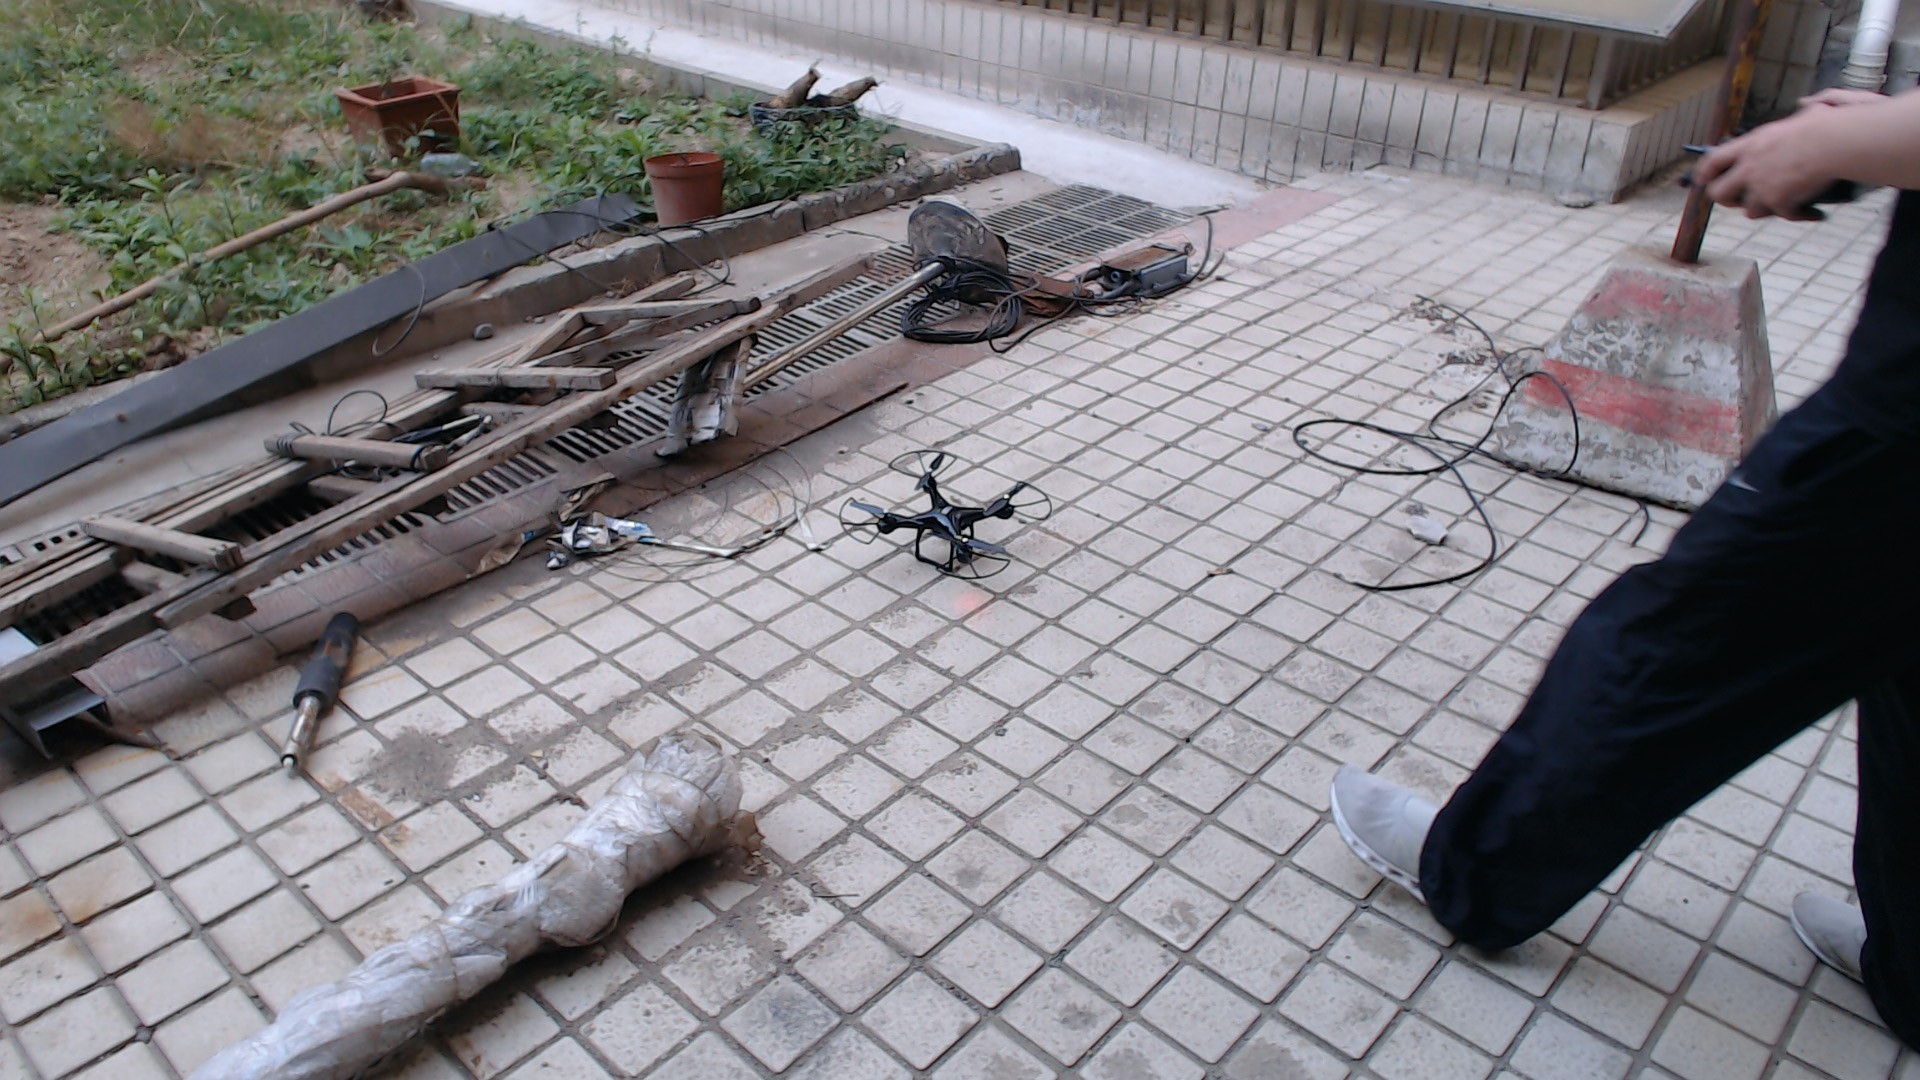drone: (813, 423, 1053, 594)
person: (1313, 16, 1920, 1068)
